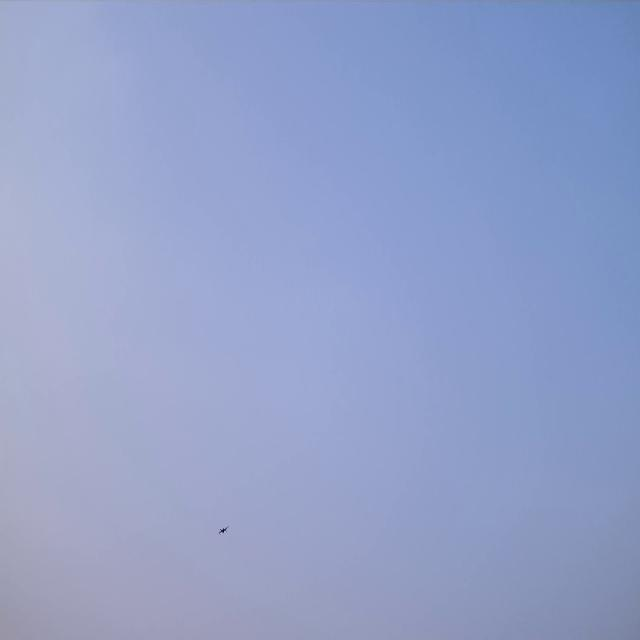UAV: (218, 525, 230, 536)
